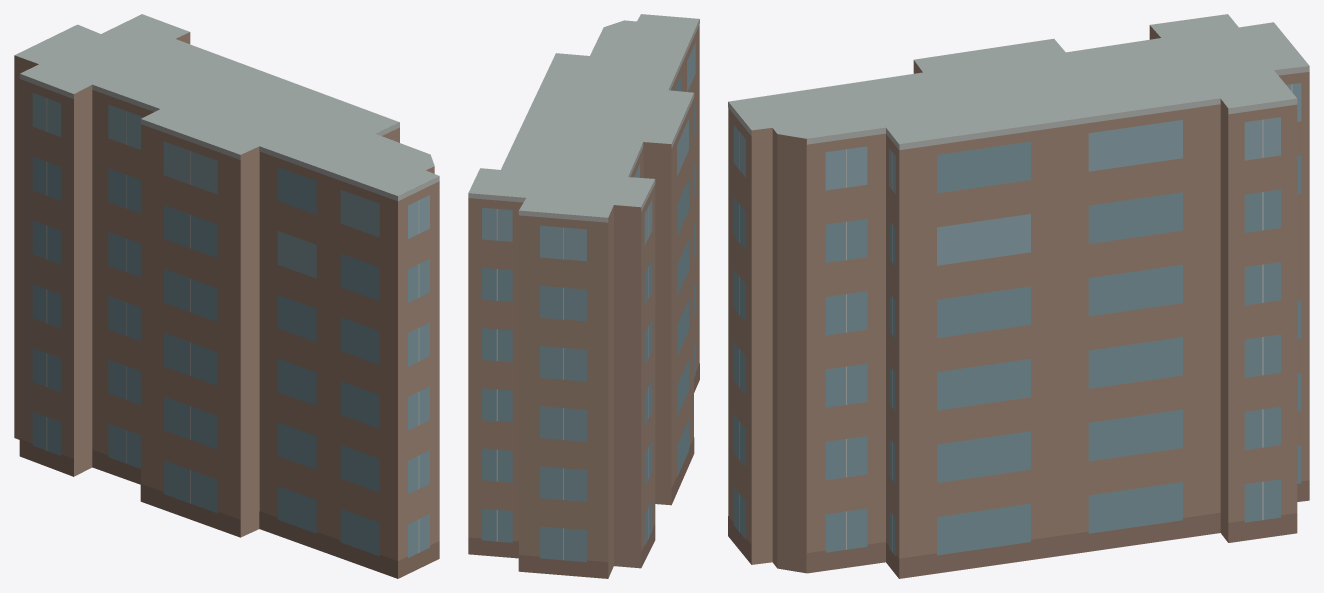
The model's file is survey-upis-32704086.glb.
3 renders of one model, left to right at view 1: azimuth 30°, elevation 25°; view 2: azimuth 150°, elevation 25°; view 3: azimuth 270°, elevation 25°, orthographic. The views are drawn at different scales.
Visible parts, largest first — view 1: survey-upis-32704086.tmp; view 2: survey-upis-32704086.tmp; view 3: survey-upis-32704086.tmp.
Boxes of the visible parts, x1,y1,x2,y2 form: survey-upis-32704086.tmp: (14,14,439,578); survey-upis-32704086.tmp: (468,14,699,578); survey-upis-32704086.tmp: (728,14,1309,578).
Bounding box in the file's own units: 11.65 × 18.1 × 21.96.
